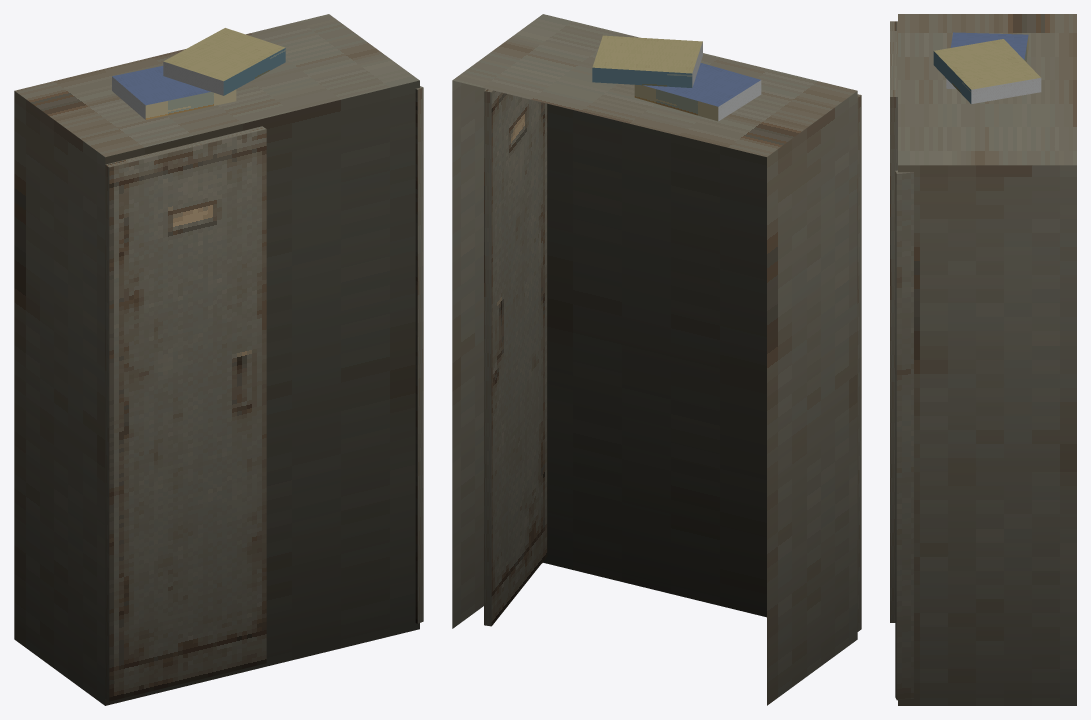
The model's file is prop_cabinet-2.glb.
3 renders of one model, left to right at view 1: azimuth 30°, elevation 25°; view 2: azimuth 150°, elevation 25°; view 3: azimuth 270°, elevation 25°, orthographic.
Visible parts, largest first — view 1: prop_cabinet-2; view 2: prop_cabinet-2; view 3: prop_cabinet-2.
Part boxes in pixels (bbox=[...]): prop_cabinet-2: bbox=[14, 14, 423, 705]; prop_cabinet-2: bbox=[452, 14, 861, 705]; prop_cabinet-2: bbox=[890, 14, 1076, 705].
Size of the model in its own units: 0.9088 by 1.58 by 0.47.
Materials: 6 (6 with a texture image).
